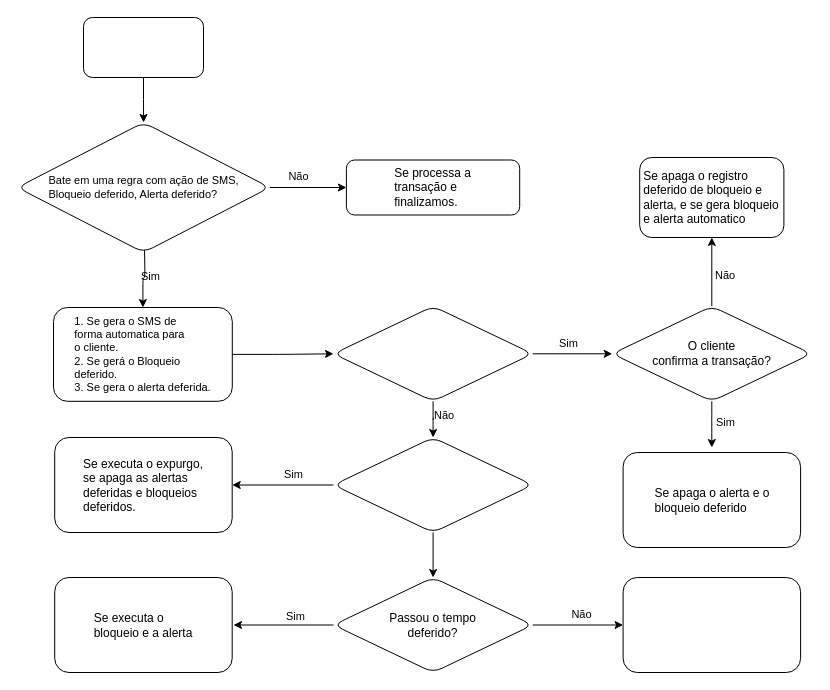
Image size: 830x690. Some labels were removed from this diagram. Here are the shapes that lost their labels. From the top down, the centre of each, then its label:
the point at 143,47: Se envia transação
the point at 432,353: O cliente respondeu o SMS?
the point at 432,484: Existe um expurgo de limpar o deferido?
the point at 711,624: Alerta e bloqueio fica pendente de execução
